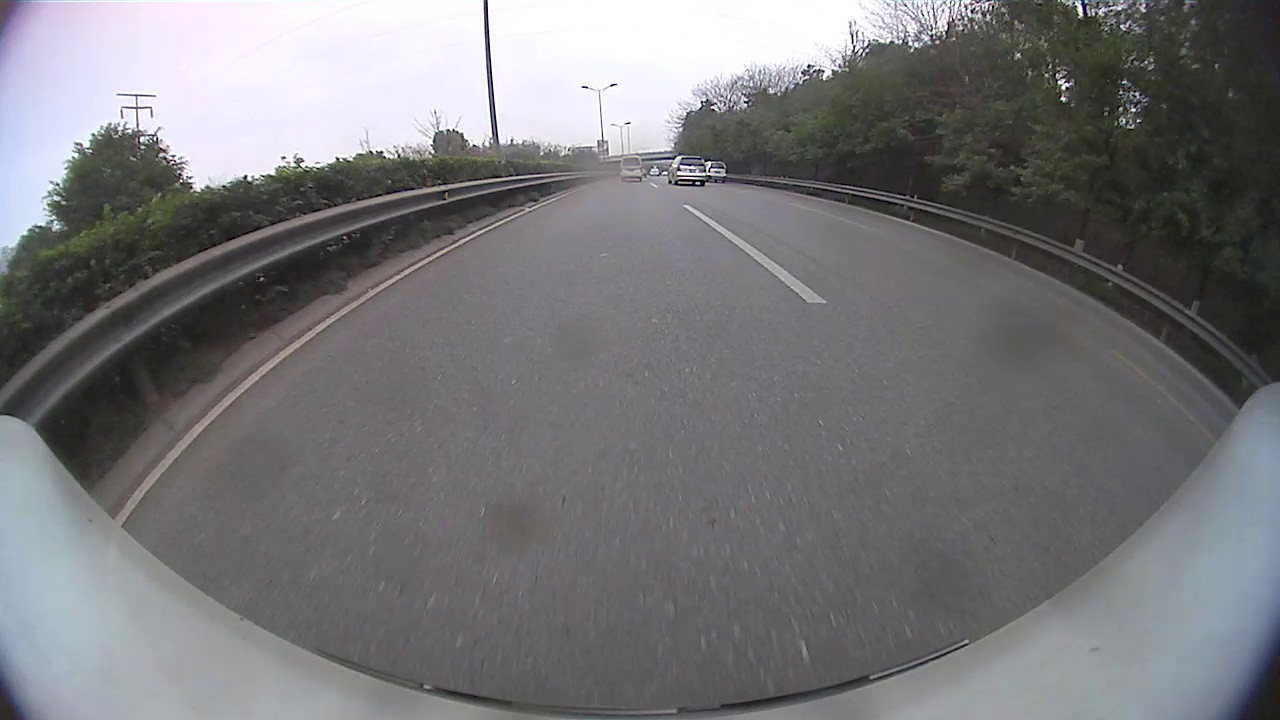car: (665, 154, 708, 186), (619, 154, 644, 182), (706, 160, 727, 183)
